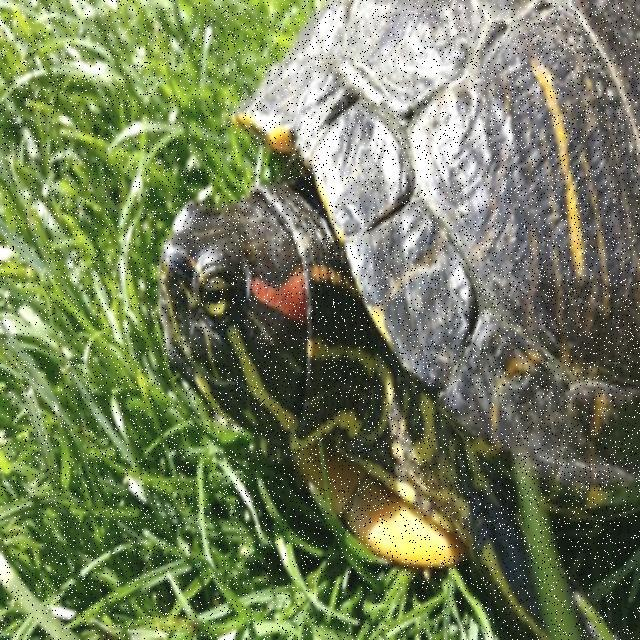tortoise: (136, 0, 640, 640)
